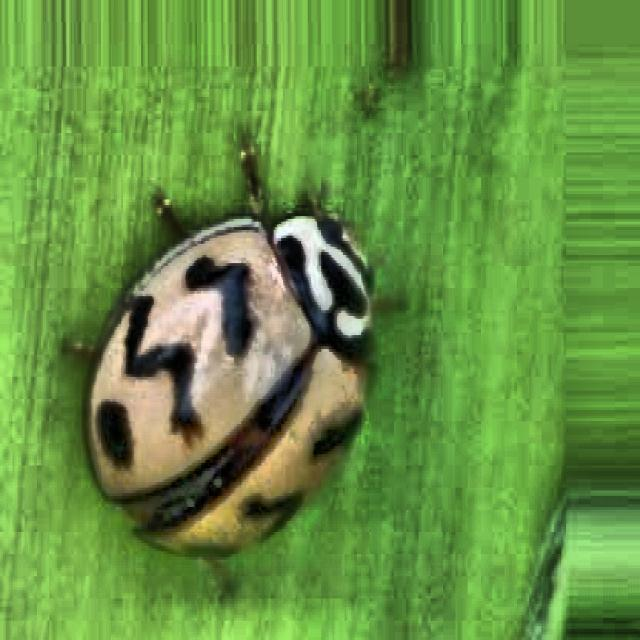Asian-Lady-beetle: (64, 133, 416, 630)
